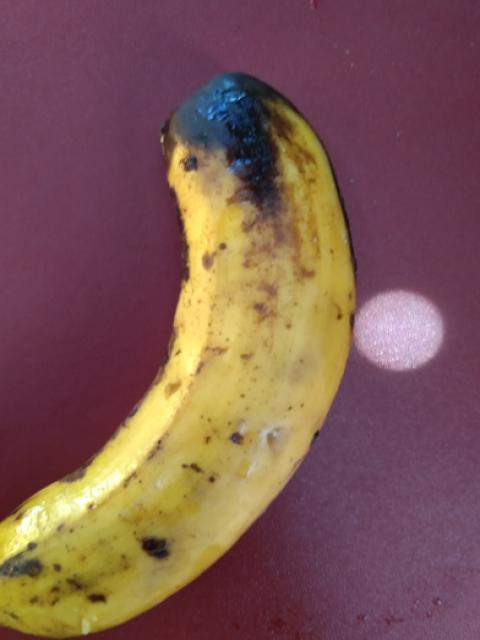rotten: (0, 36, 368, 639)
